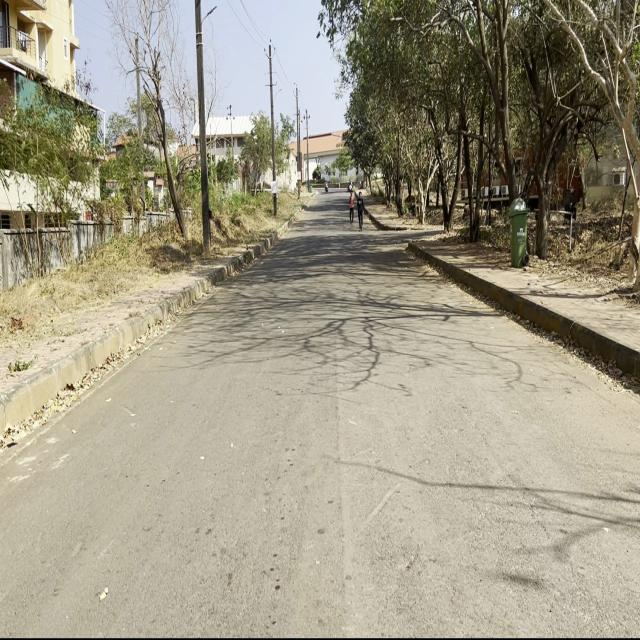Road: (4, 192, 639, 631)
